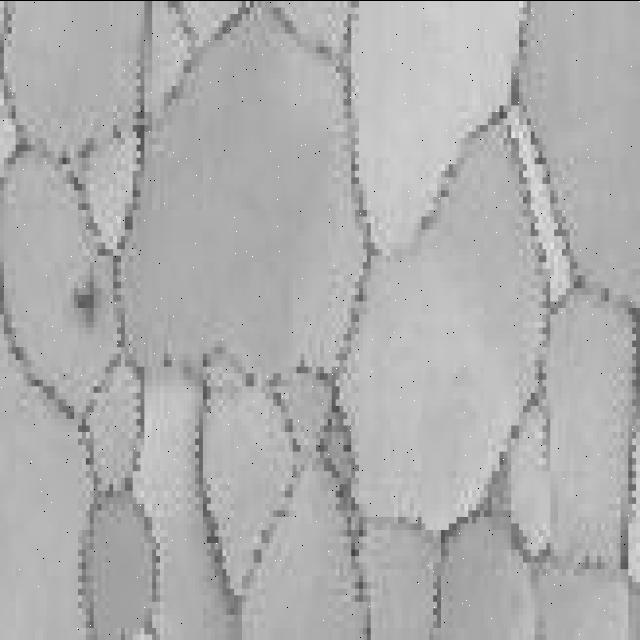good_void: (76, 264, 102, 330)
